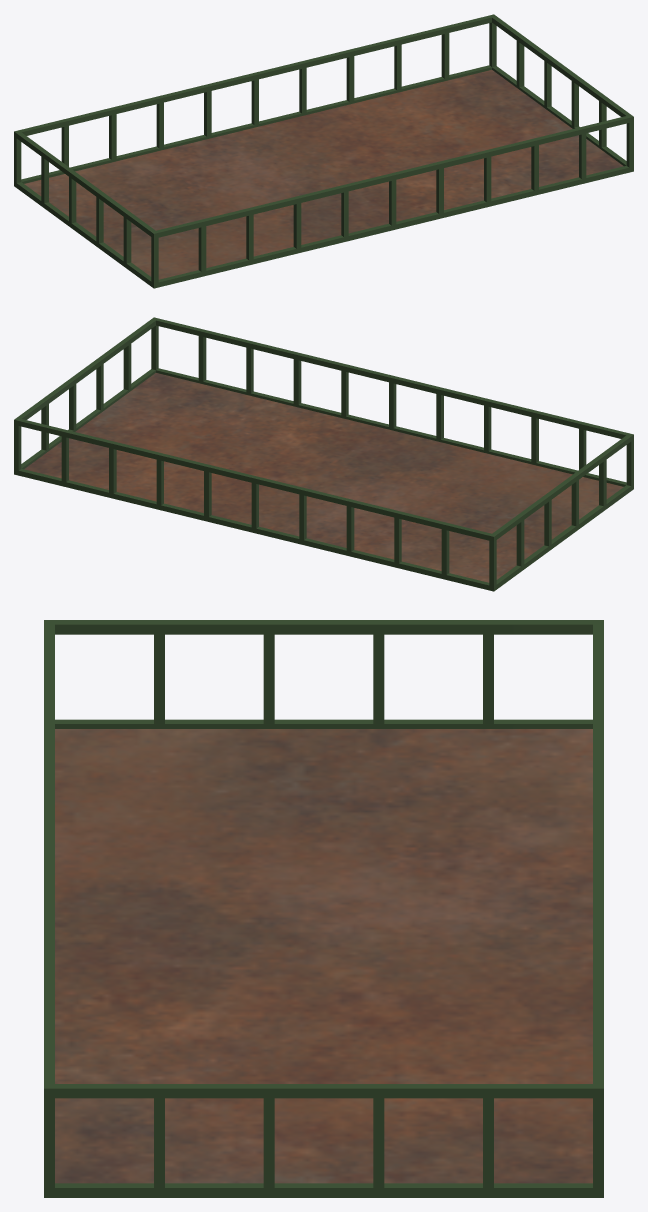
File: Planter_A.fbx
3 views of the same model, one above another, from view 1: azimuth 30°, elevation 25°; view 2: azimuth 150°, elevation 25°; view 3: azimuth 270°, elevation 25° (orthographic). The views are drawn at different scales.
Visible parts, largest first — view 1: Planter_A; view 2: Planter_A; view 3: Planter_A.
Boxes of the visible parts, bbox=[...] form: Planter_A: bbox=[14, 14, 633, 288]; Planter_A: bbox=[14, 317, 633, 591]; Planter_A: bbox=[44, 620, 603, 1197].
Size of the model in its own units: 202 by 22 by 102.
